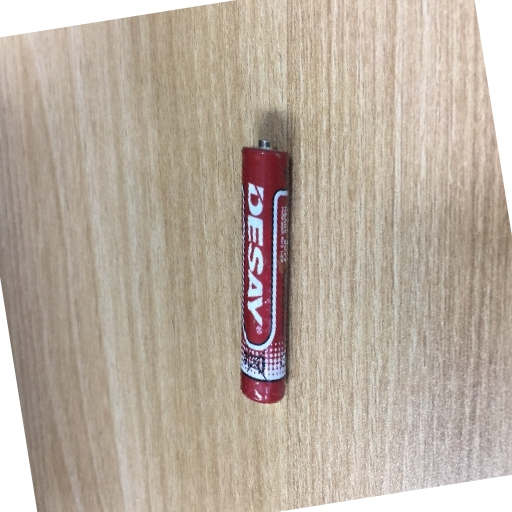Battery_0: (214, 124, 313, 420)
